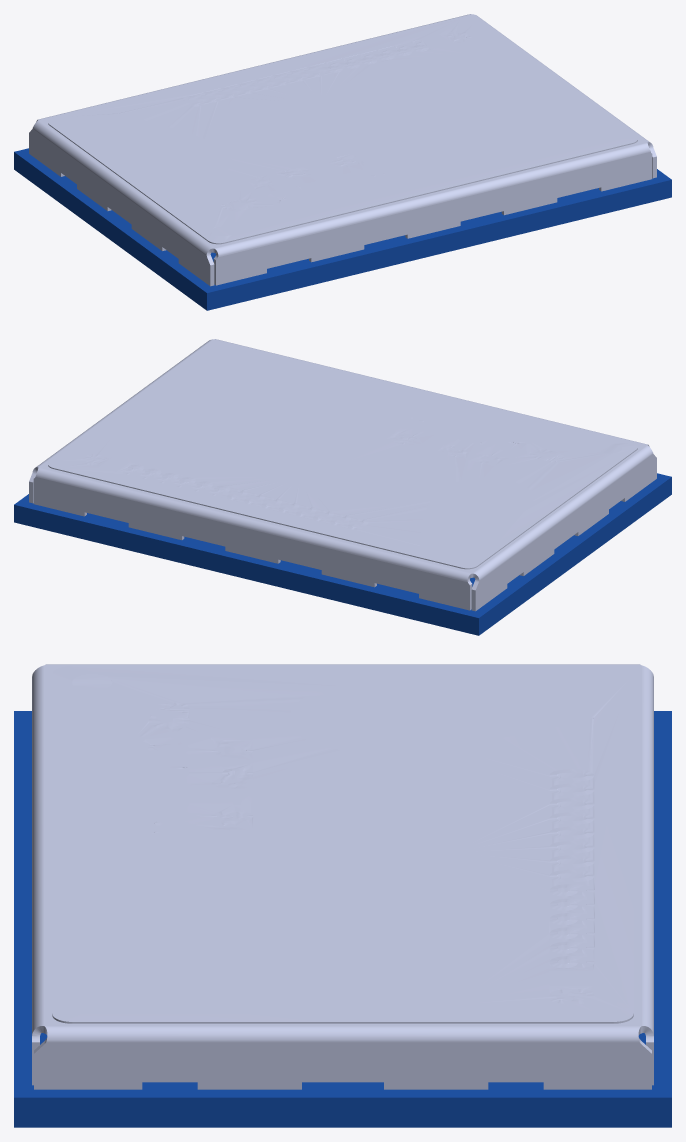
Rendered from sfe-septentrio_mosaic-g5.glb.
3 views of the same model, one above another, from view 1: azimuth 30°, elevation 25°; view 2: azimuth 150°, elevation 25°; view 3: azimuth 270°, elevation 25° (orthographic). The views are drawn at different scales.
Visible parts, largest first — view 1: 0.5833333333333334_0.6666666666666666_0.8333333333333334_0, 0_0.08333333333333333_0.4166666666666667_0; view 2: 0.5833333333333334_0.6666666666666666_0.8333333333333334_0, 0_0.08333333333333333_0.4166666666666667_0; view 3: 0.5833333333333334_0.6666666666666666_0.8333333333333334_0, 0_0.08333333333333333_0.4166666666666667_0.
Boxes of the visible parts, x1,y1,x2,y2 form: 0.5833333333333334_0.6666666666666666_0.8333333333333334_0: (29,14,656,286); 0_0.08333333333333333_0.4166666666666667_0: (14,148,671,310); 0.5833333333333334_0.6666666666666666_0.8333333333333334_0: (29,339,656,611); 0_0.08333333333333333_0.4166666666666667_0: (14,473,671,635); 0.5833333333333334_0.6666666666666666_0.8333333333333334_0: (32,664,653,1089); 0_0.08333333333333333_0.4166666666666667_0: (14,711,671,1127).
Size of the model in its own units: 2.28 by 0.2499 by 1.64.
